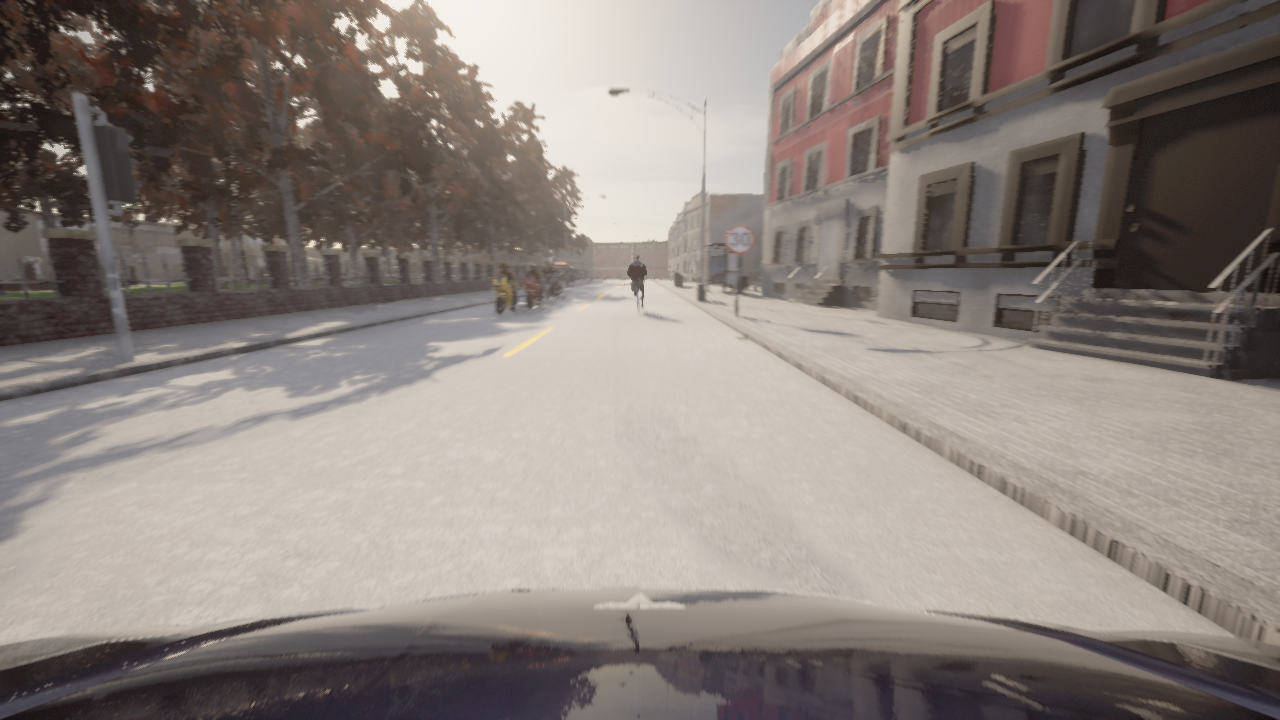cyclist: (0, 588, 1279, 719), (486, 275, 520, 315), (518, 274, 544, 309), (552, 273, 563, 298), (637, 287, 643, 314), (544, 276, 549, 301)
